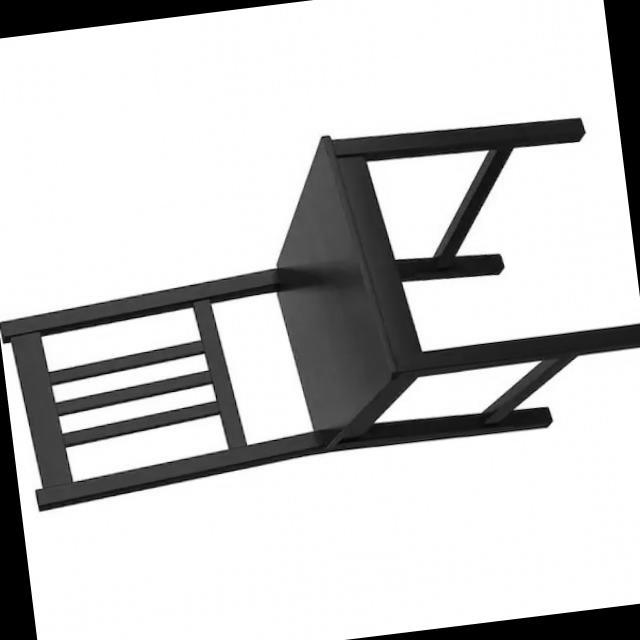chair: (0, 97, 640, 514)
